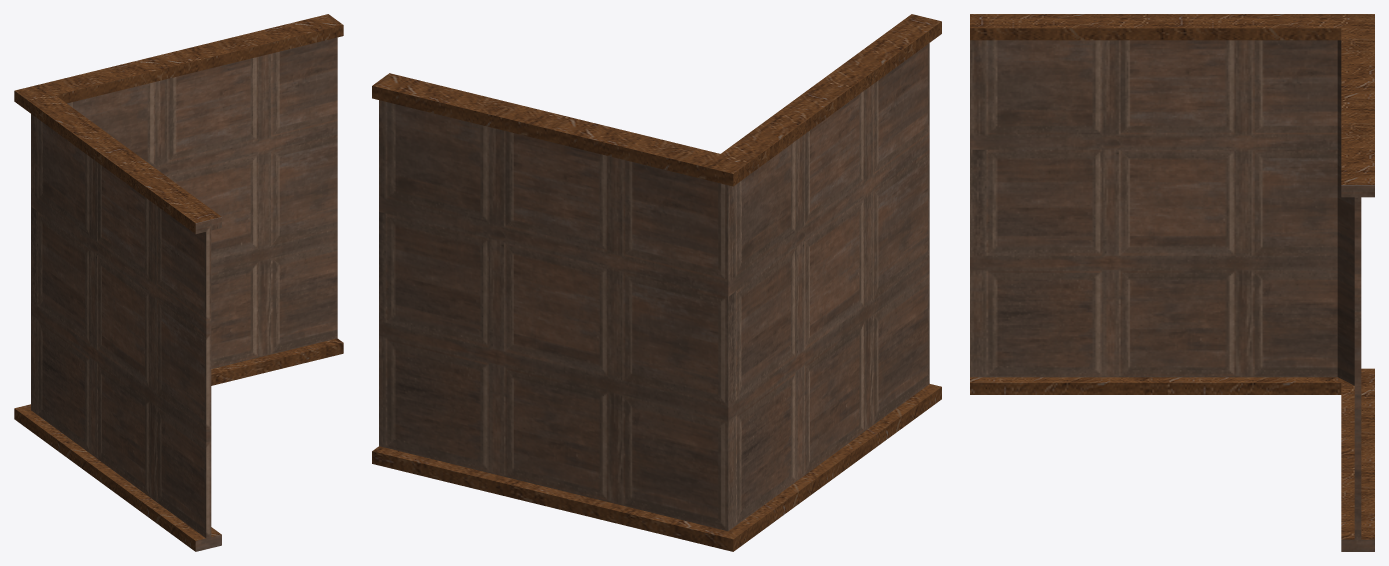
File: Concave_Corner.fbx
3 views of the same model, side by side, from view 1: azimuth 30°, elevation 25°; view 2: azimuth 150°, elevation 25°; view 3: azimuth 270°, elevation 25° (orthographic). The views are drawn at different scales.
Parts seen in each view (by area): view 1: CORNER; view 2: CORNER; view 3: CORNER.
Part boxes in pixels (left/top/right/bottom): CORNER: left=14, top=14, right=343, bottom=551; CORNER: left=372, top=14, right=941, bottom=551; CORNER: left=970, top=14, right=1374, bottom=551.
Bounding box in the file's own units: 300 × 300 × 300.
